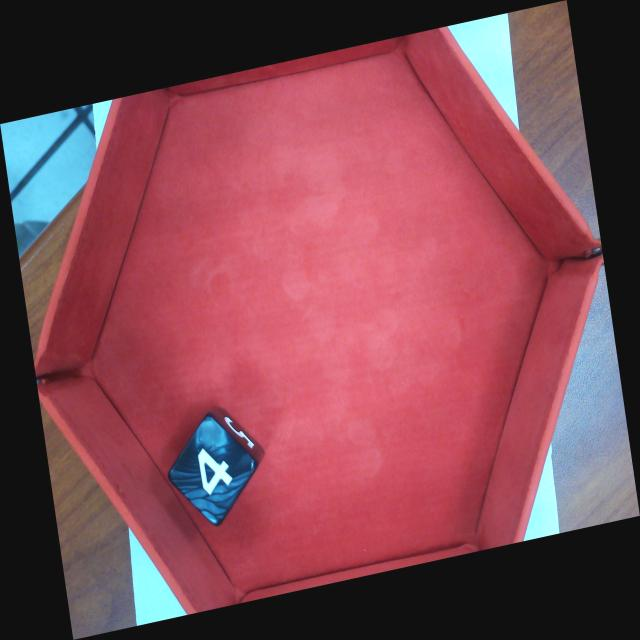dice: (164, 412, 259, 529)
